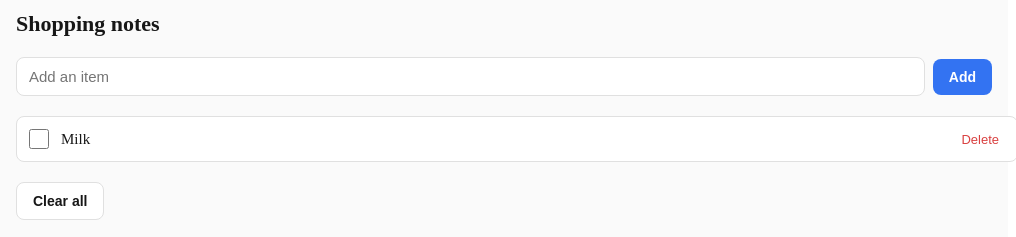
Home › lets the user delete an item from the shopping list with a single action
The width and height of the screenshot is (1016, 237).
Check: the text "Milk" is shown, box [61,130,90,146]
Click the button "Delete" at (980, 139), box [955,130,1005,148]
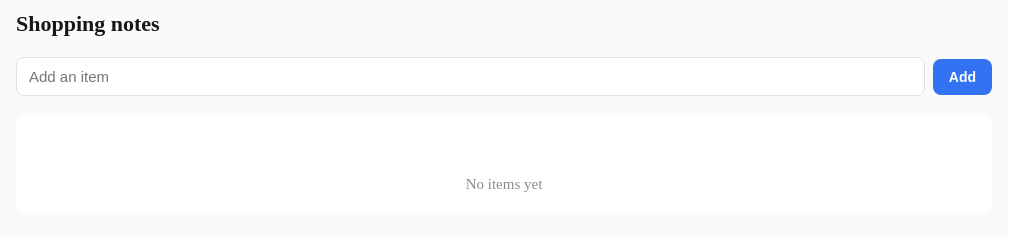
Check: the text "Milk" is gone
